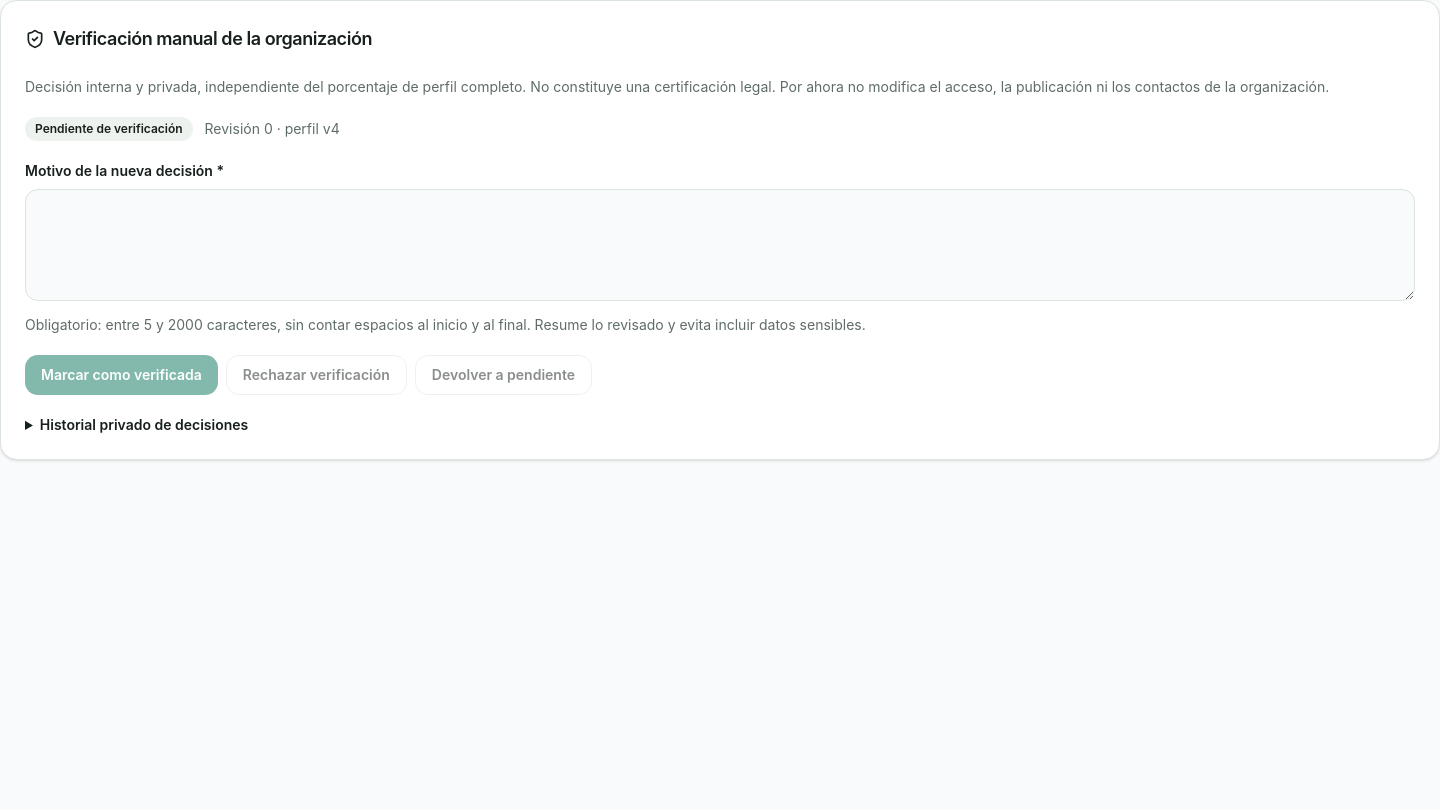
Test: verificación manual privada de organizaciones › necesita una confirmación separada y guarda motivo recortado y ambas versiones
Expected: the button "Marcar como verificada" is shown, [25,355,218,395]
Type "  Identidad y sitio revisados.  " into the text box labelled "Motivo de la nueva decisión *" at (720, 245), box [25,189,1415,301]
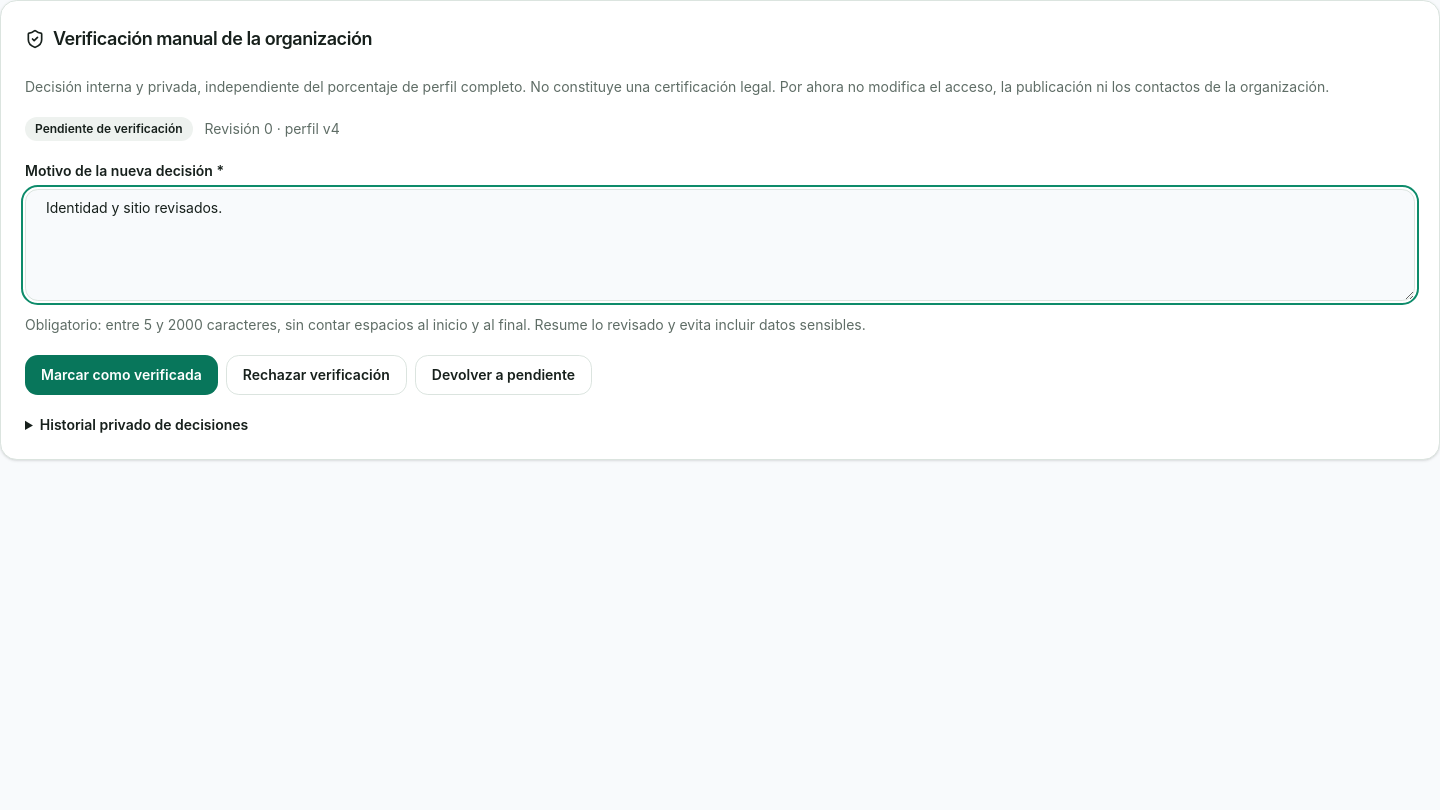
Click the button "Marcar como verificada" at (121, 375), box [25,355,218,395]
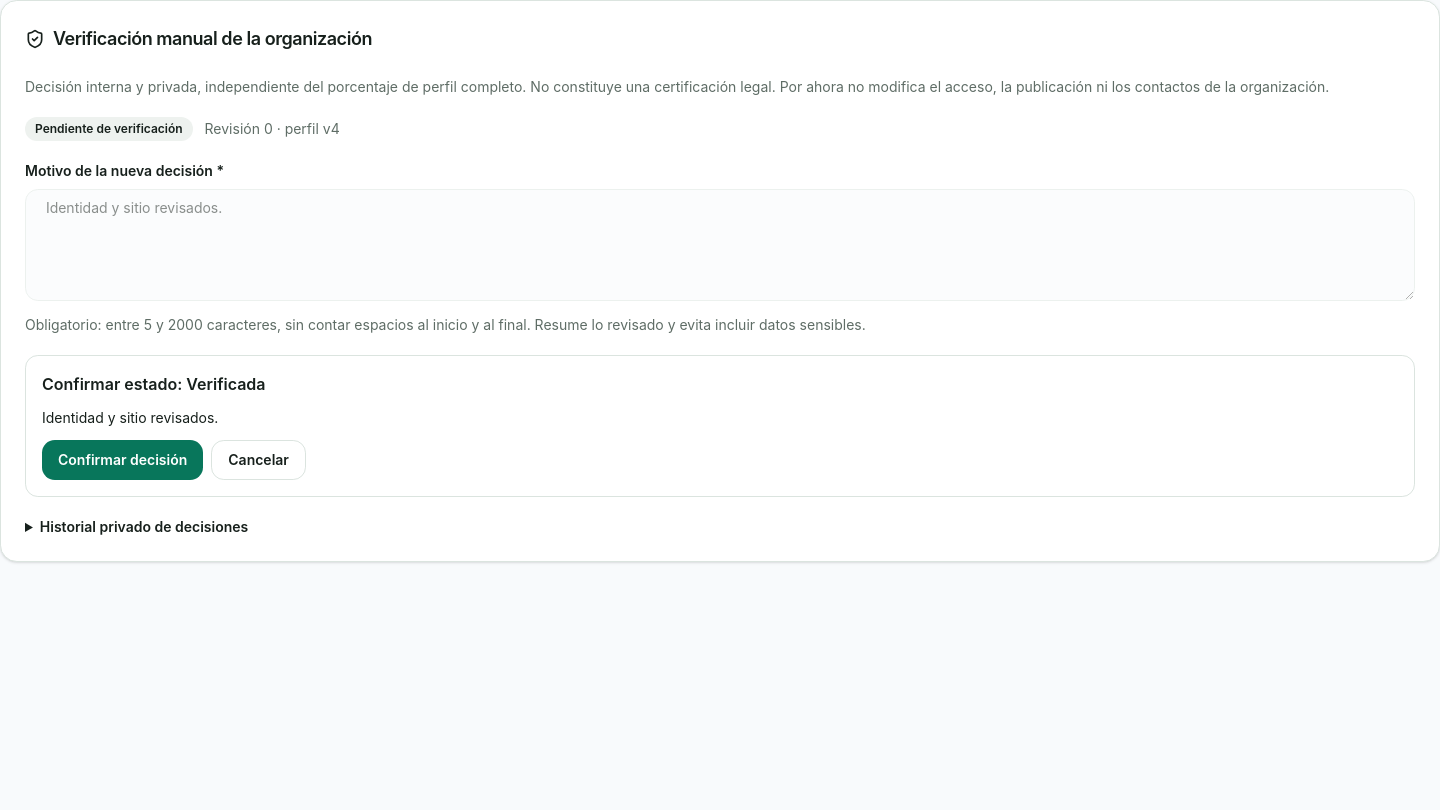
Expected: the text box is disabled, [25,189,1415,301]
Expected: the element named "Confirmación de la decisión" shows "Confirmar estado: Verificada", [42,374,266,394]
Click the button "Confirmar decisión" at (123, 460), box [42,440,203,480]
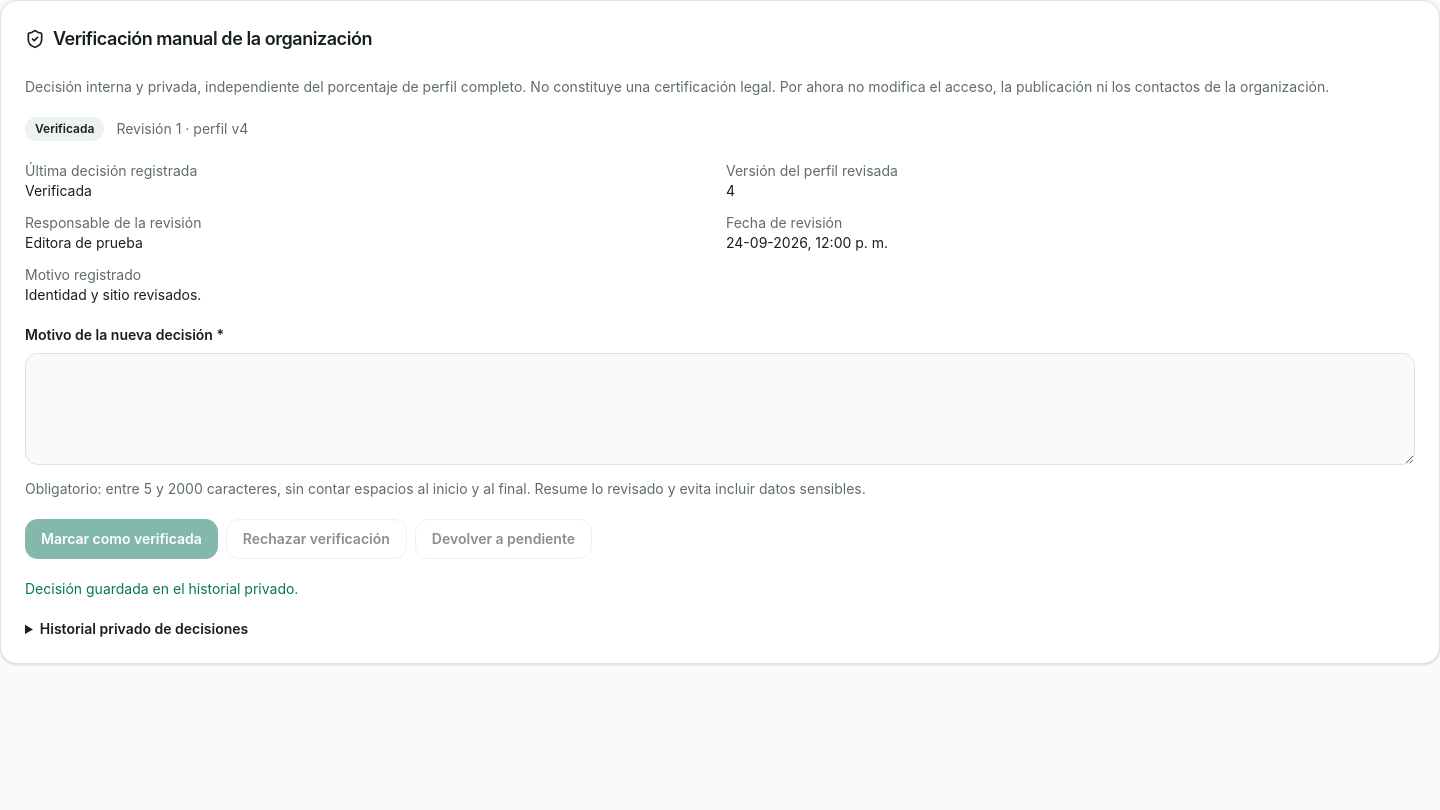
Expected: the text "Decisión guardada en el historial privado." is shown, [25,580,298,597]
Expected: the text box is empty, [25,353,1415,465]
Expected: the text "Editora de prueba" is shown, [25,234,143,251]
Click the heading "Historial privado de decisiones" at (144, 628), box [40,620,248,637]
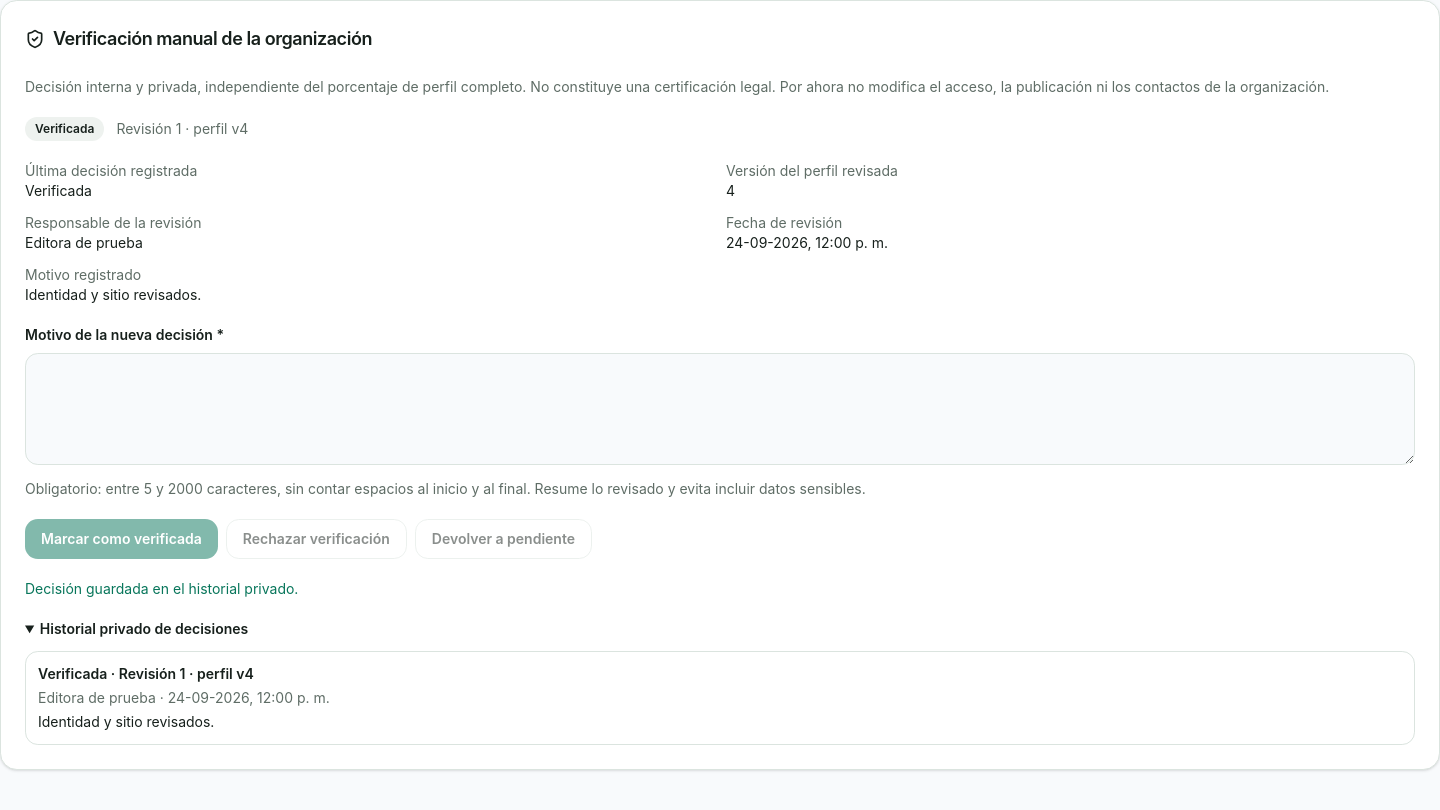
Expected: the list item shows "perfil v4", [119,665,254,682]
Expected: the list item shows "Identidad y sitio revisados.", [38,713,214,730]
